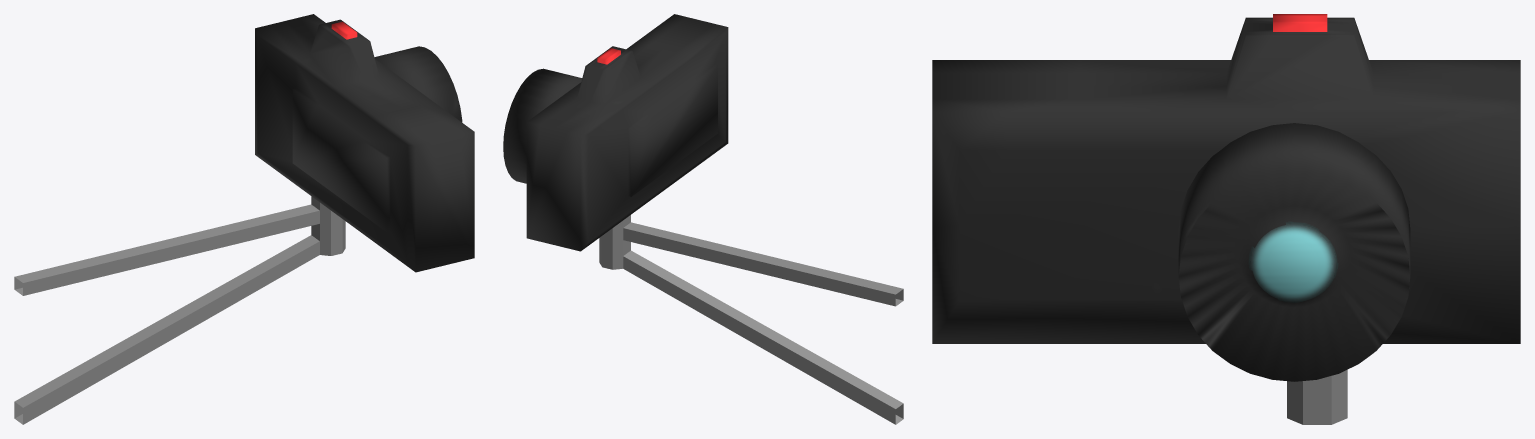
File: Camera.fbx
3 renders of one model, left to right at view 1: azimuth 30°, elevation 25°; view 2: azimuth 150°, elevation 25°; view 3: azimuth 270°, elevation 25°, orthographic. The views are drawn at different scales.
Visible parts, largest first — view 1: Circle_Material_0, BodyCam; view 2: Circle_Material_0, BodyCam; view 3: Circle_Material_0, BodyCam.
Part boxes in pixels (x1,y1,x2,y2): Circle_Material_0: (255,14,474,272); BodyCam: (14,196,345,424); Circle_Material_0: (503,14,728,251); BodyCam: (599,215,903,424); Circle_Material_0: (932,14,1520,381); BodyCam: (1287,369,1347,424).
Bounding box in the file's own units: 53.75 × 40.28 × 36.86.
